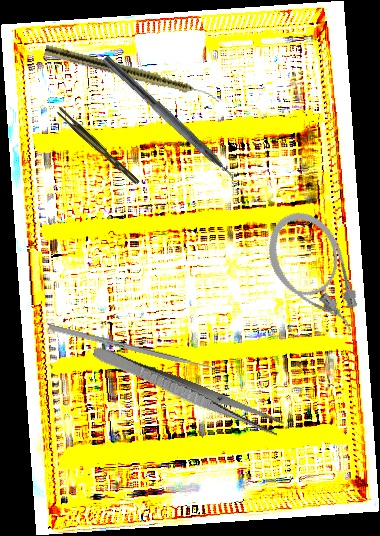Cannula: (255, 201, 373, 350)
Chopper: (93, 54, 249, 198)
Dressing Forceps: (89, 343, 286, 439)
Handpiece: (43, 43, 222, 105)
Pusher: (47, 324, 227, 374)
Tissue Forceps: (55, 104, 140, 189)
